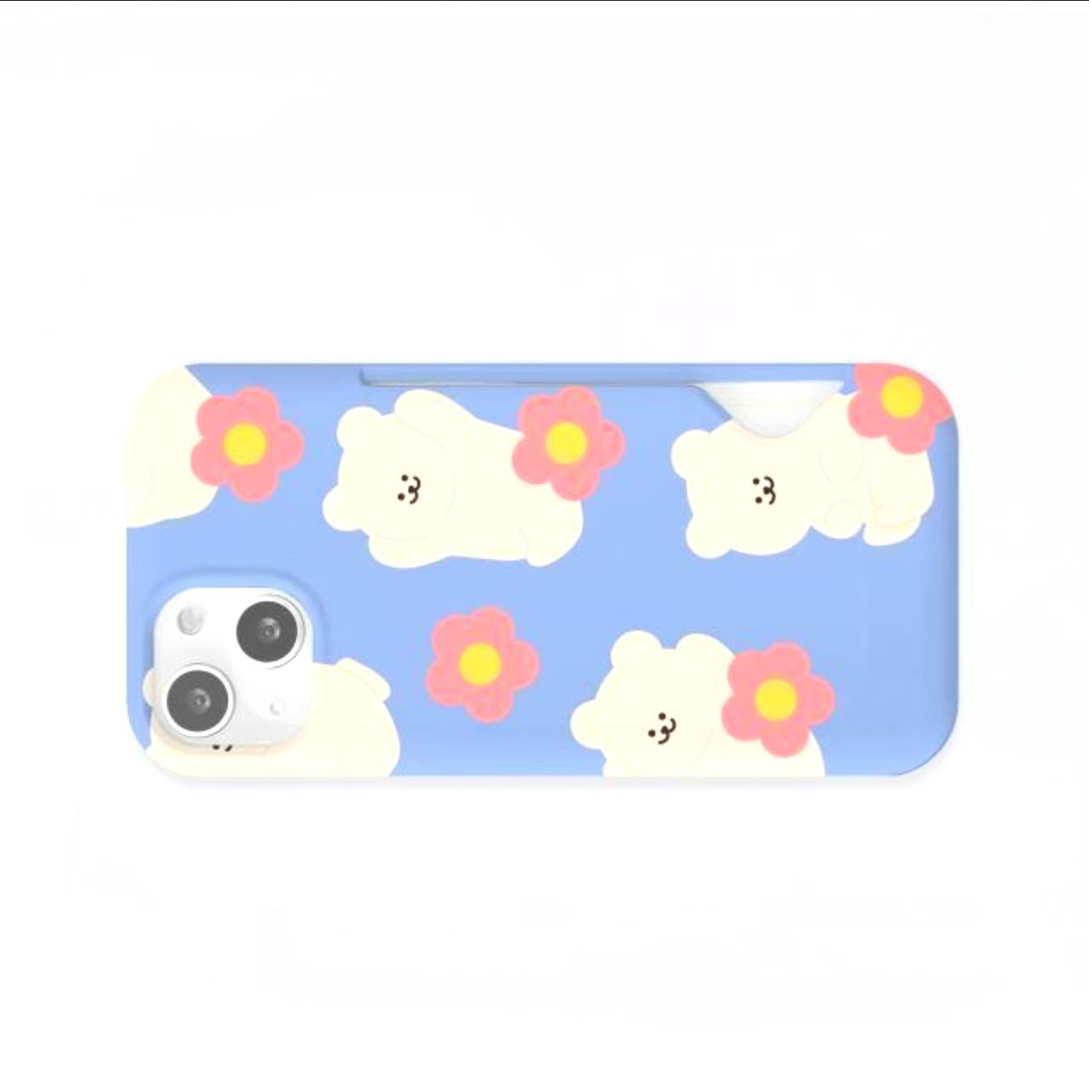phone: (121, 347, 963, 786)
